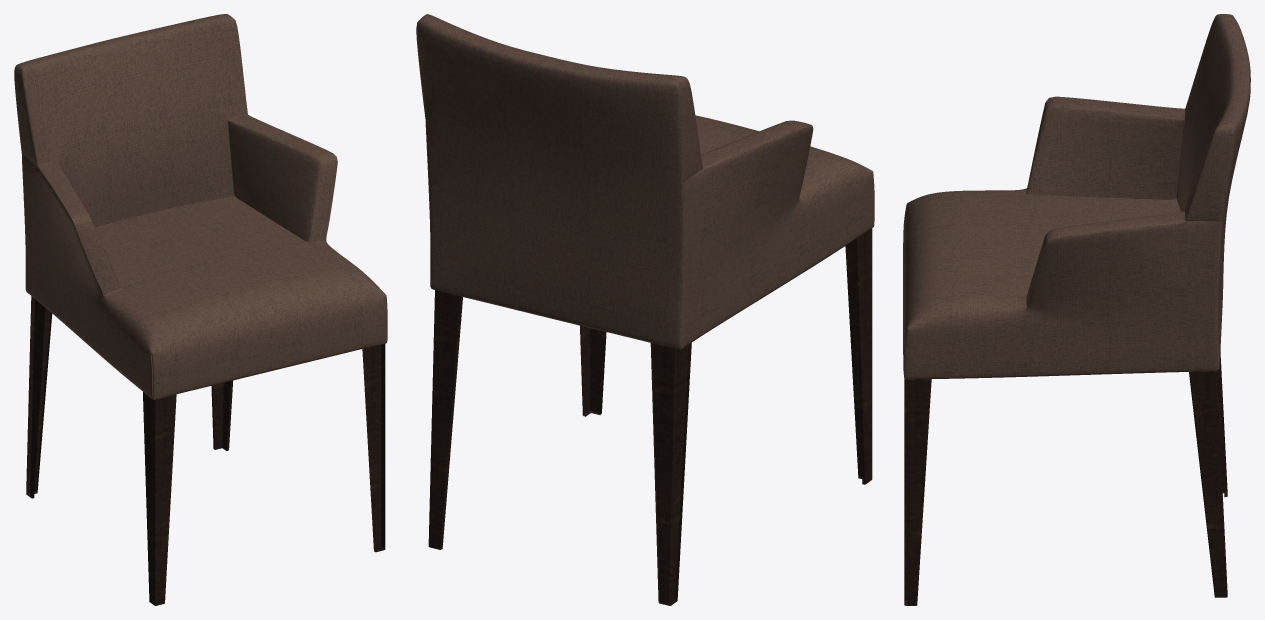
File: sh_blend_swap_cc_0_chair.glb
3 renders of one model, left to right at view 1: azimuth 30°, elevation 25°; view 2: azimuth 150°, elevation 25°; view 3: azimuth 270°, elevation 25°, orthographic. The views are drawn at different scales.
Size of the model in its own units: 0.513 by 0.8 by 0.531.
2 materials, 2 textured.
